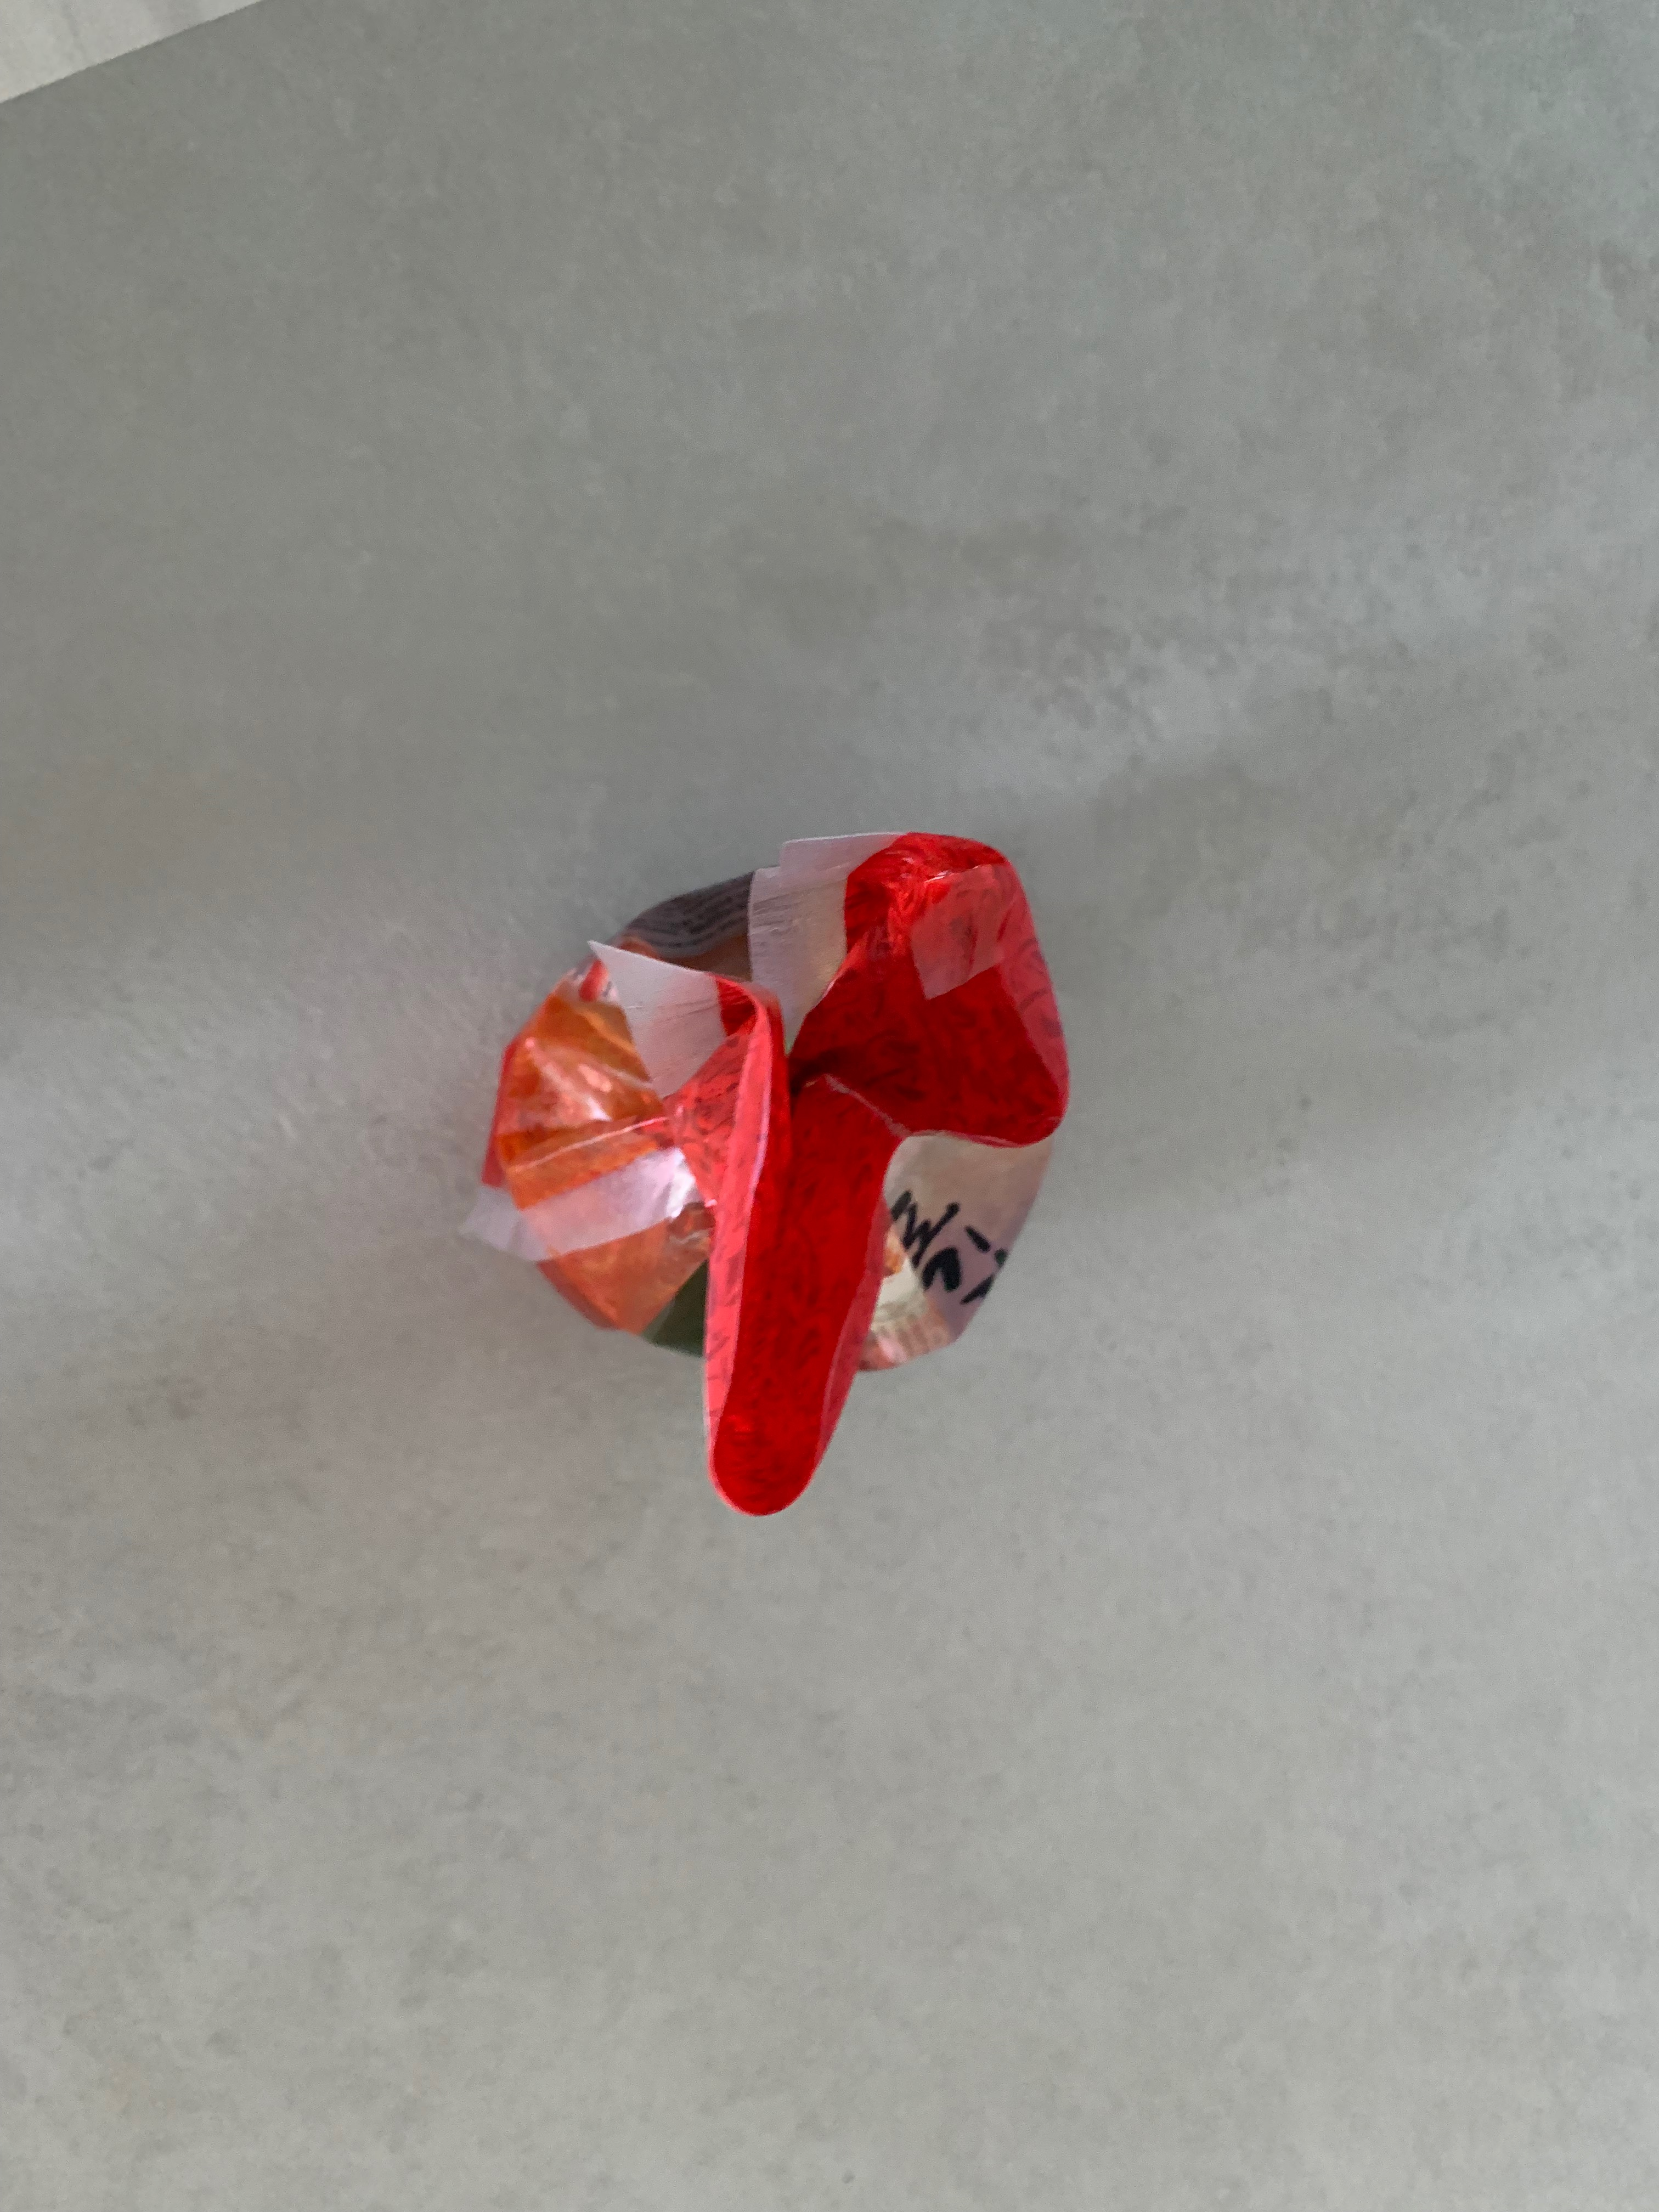kimchi: (484, 834, 1072, 1517)
